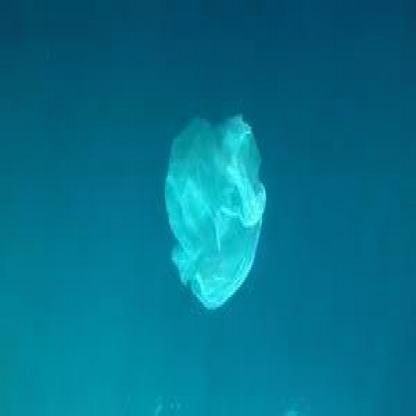pbag: (164, 111, 266, 312)
